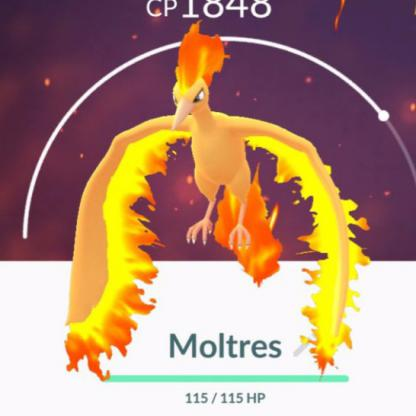Moltres: (18, 29, 394, 384)
